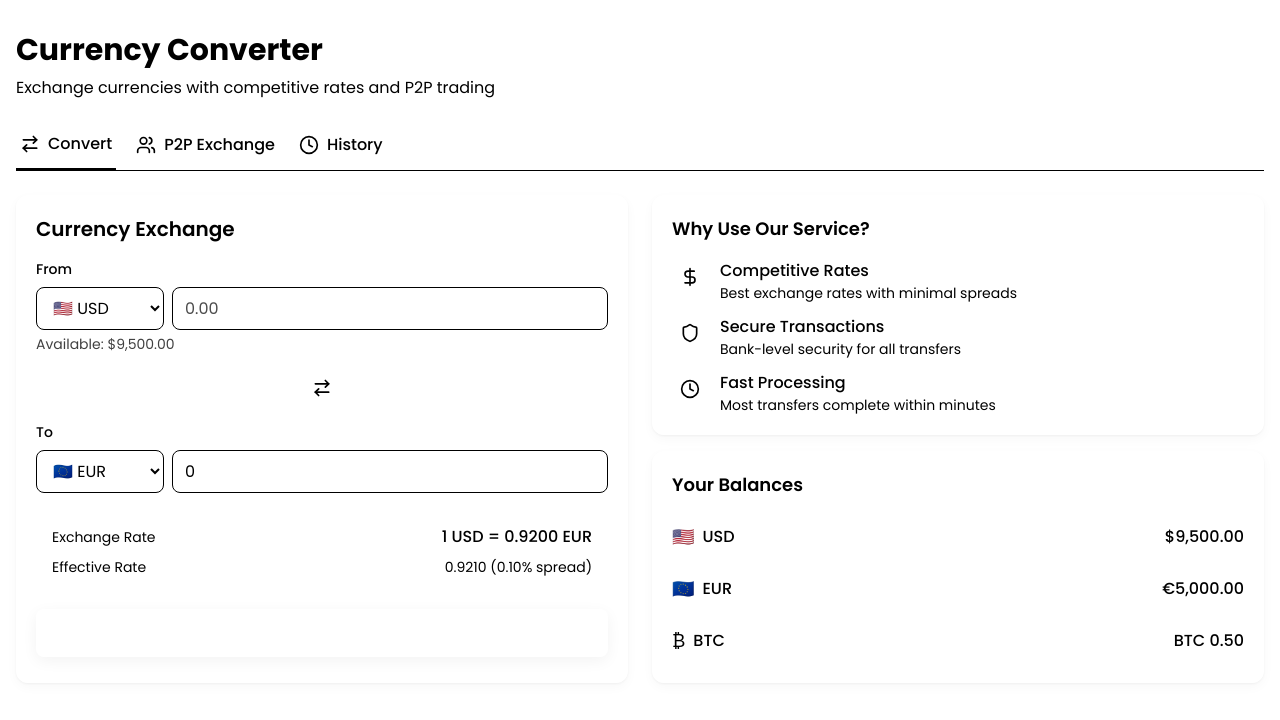
CurrencyConverterPage › swap currencies button works
The image size is (1280, 720).
expect the heading "Currency Exchange" is shown: met, box [36,215,235,243]
expect the dropdown below "From" shows "🇺🇸 USD": met, box [36,287,164,330]
Click the 4th button.
click(322, 388)  # box [304,370,340,406]
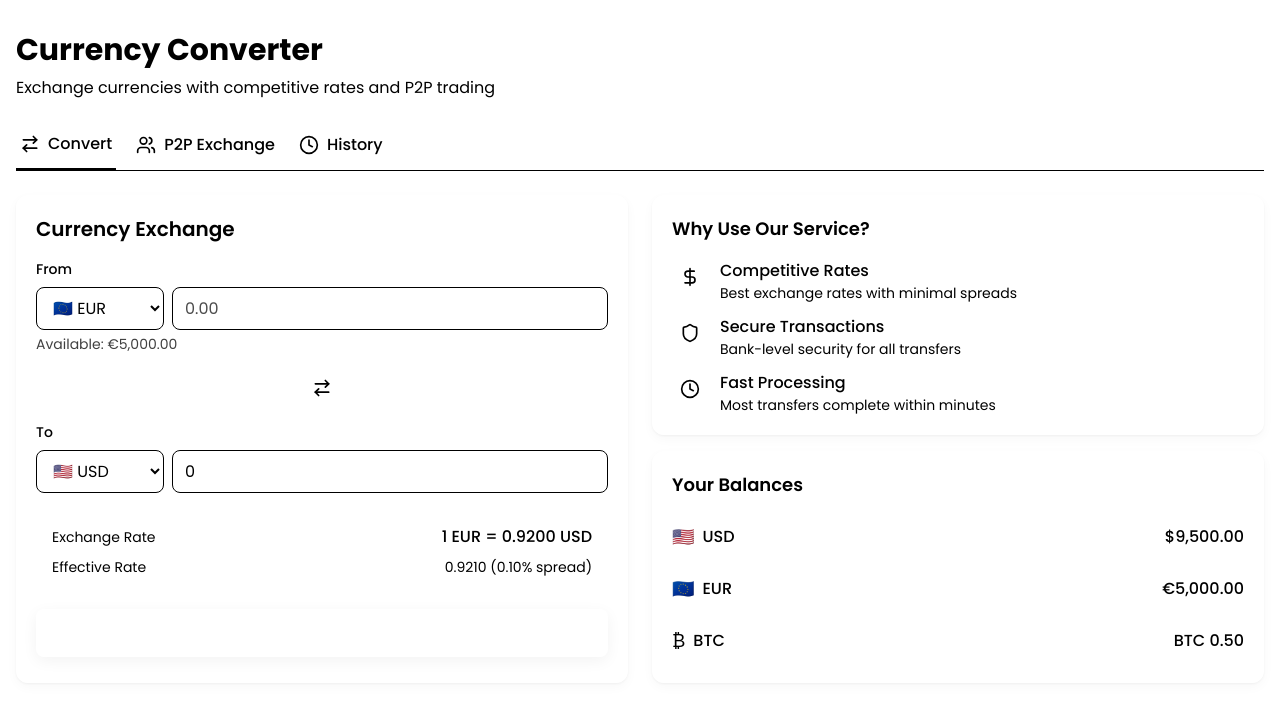
expect the dropdown below "From" shows "🇪🇺 EUR": met, box [36,287,164,330]
expect the 2nd dropdown shows "🇺🇸 USD": met, box [36,450,164,493]
